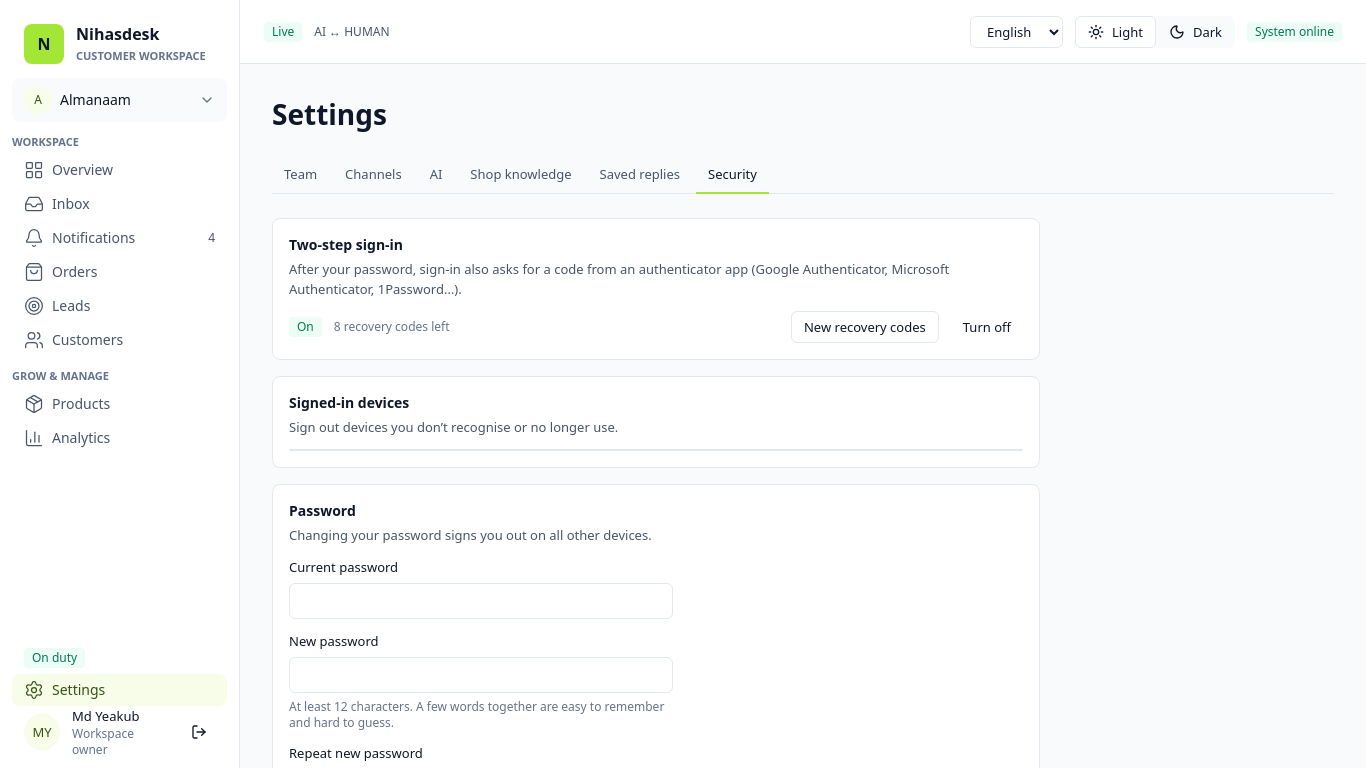
Settings → Security › asks for the password before turning it off, then retries
Click the button "Turn off".
click(987, 327)  # box [951,311,1023,343]
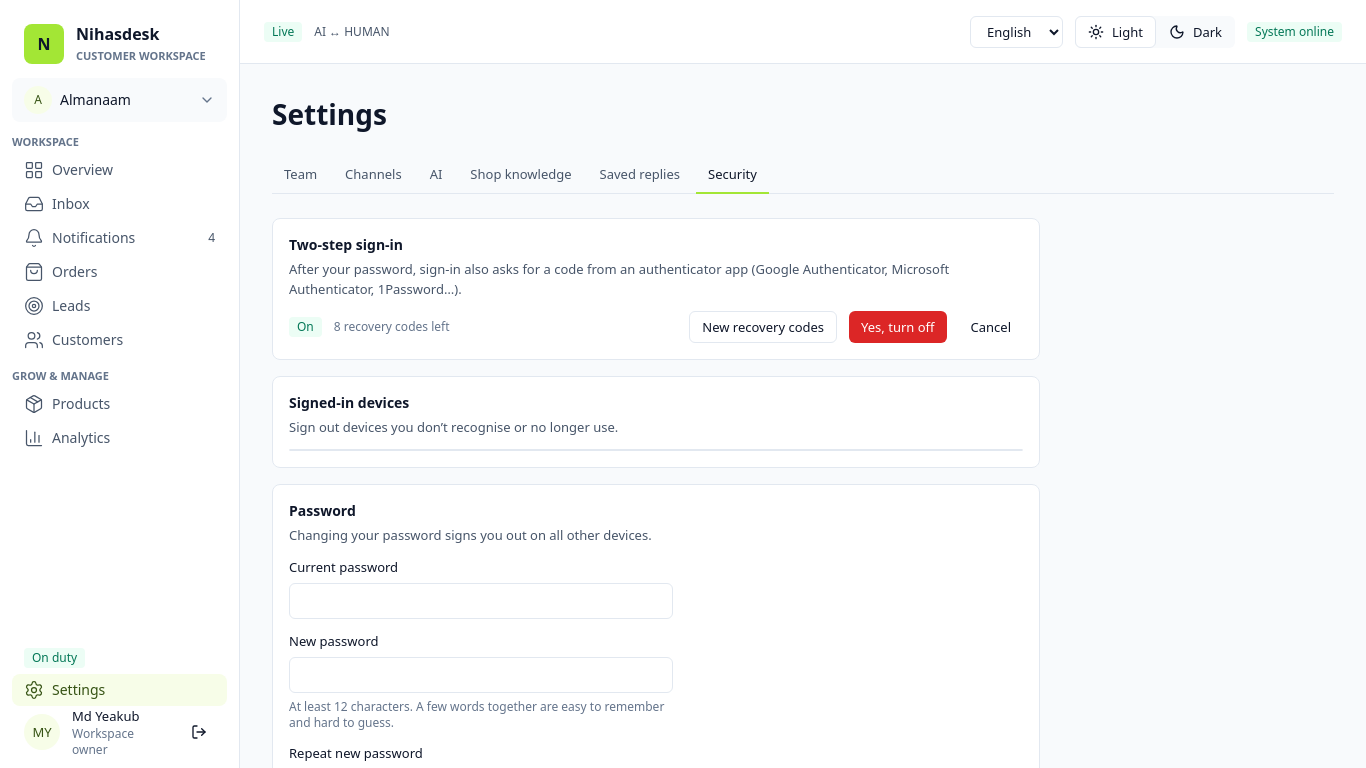
Click the button "Yes, turn off".
click(898, 327)  # box [849,311,947,343]
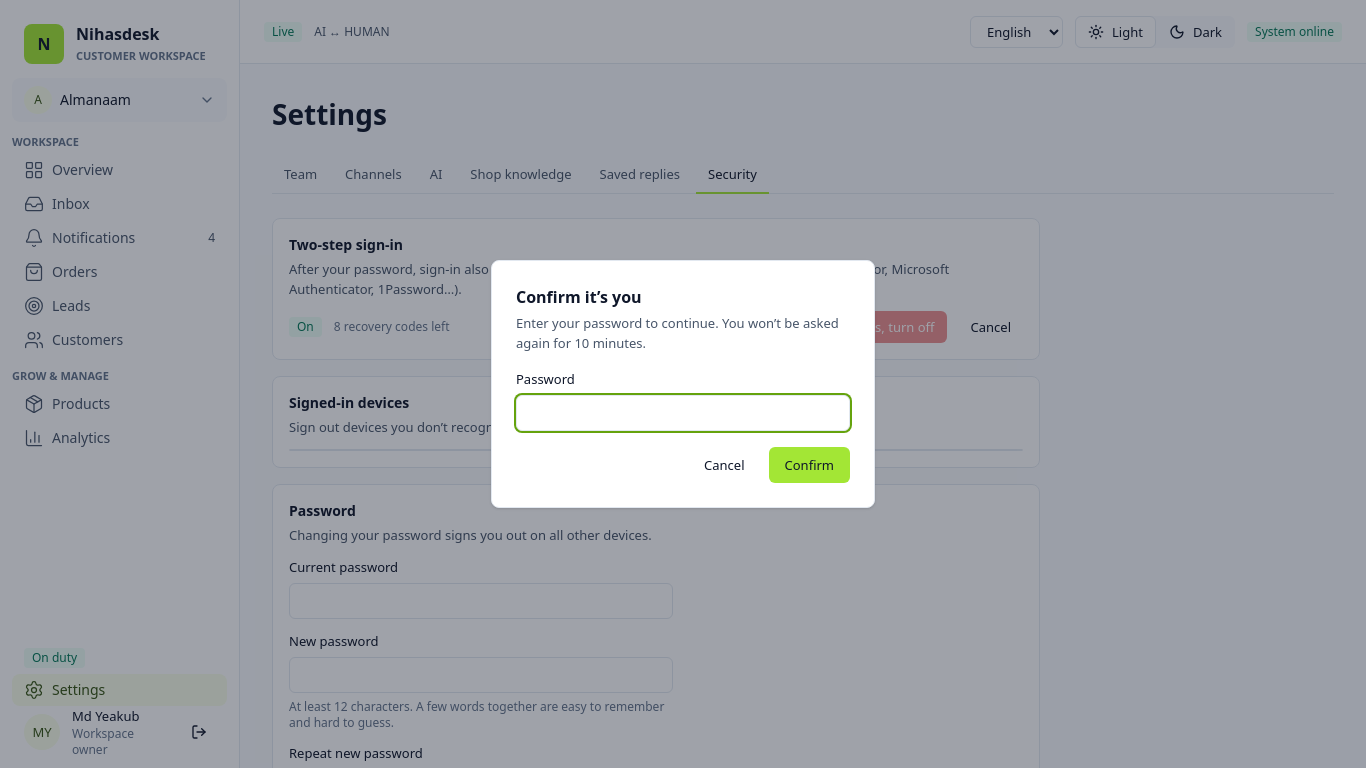
Type "tramonto sul lago verde" into the password field labelled "Password".
click(683, 413); type("tramonto sul lago verde")  # box [516,395,850,431]
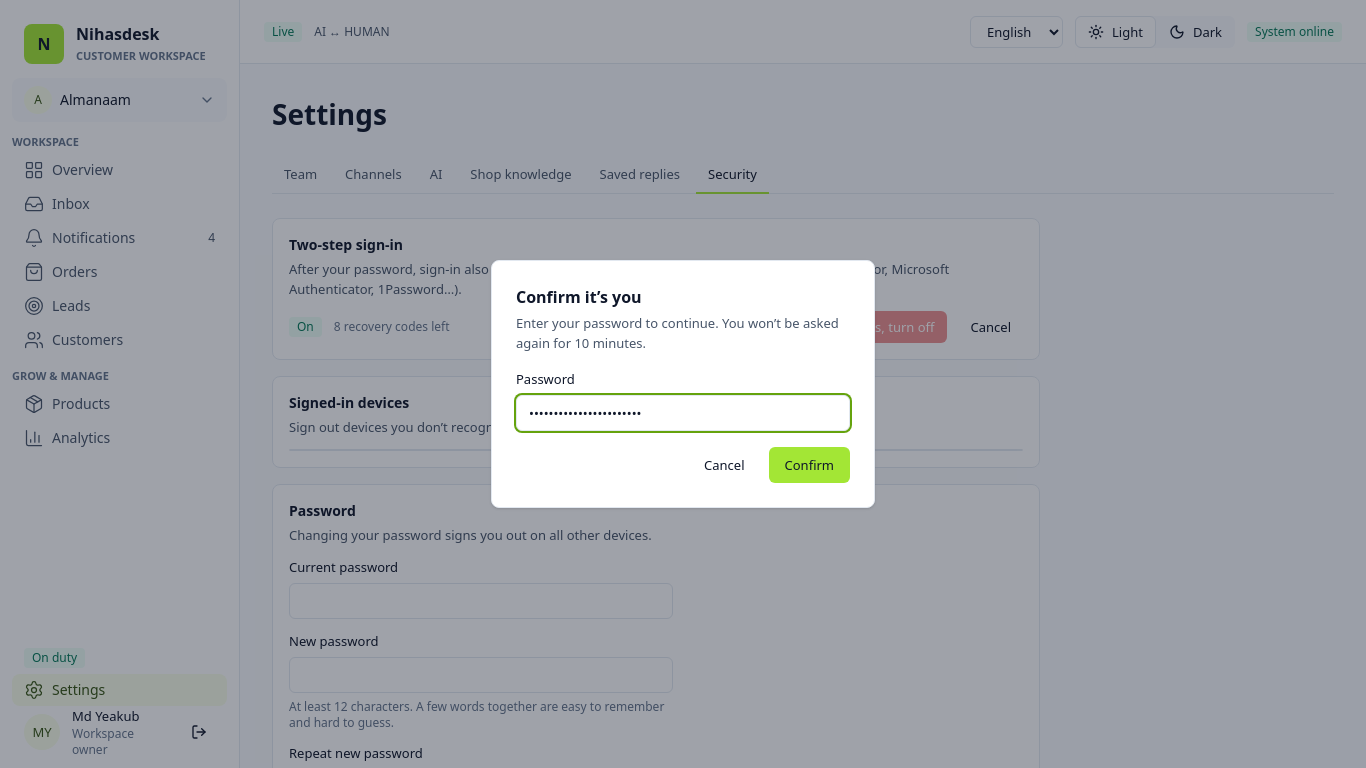
Click the button "Confirm".
click(809, 465)  # box [768,447,850,483]
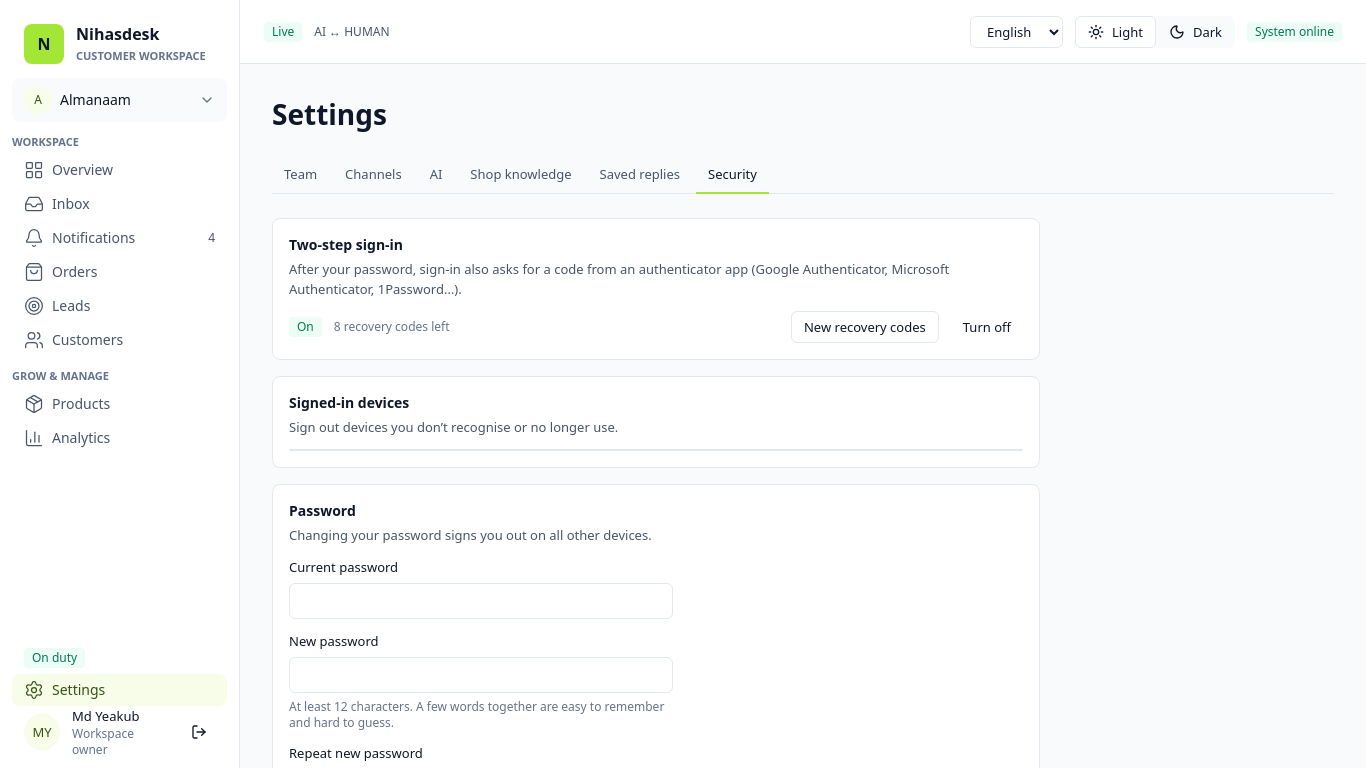
Now the dialog is gone
